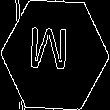M_S: (34, 29, 76, 81)
